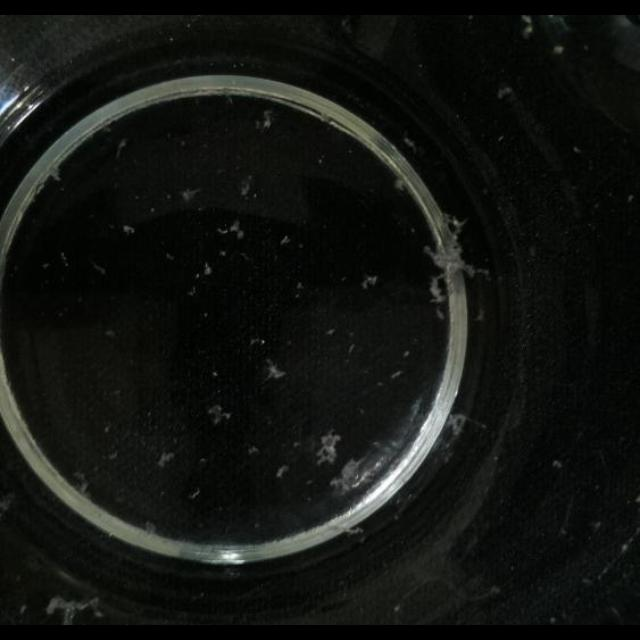Fibre: (422, 225, 476, 298), (44, 594, 104, 624), (330, 456, 368, 494), (316, 432, 342, 466), (217, 217, 246, 239), (262, 358, 286, 382), (206, 404, 232, 426), (69, 472, 89, 493), (256, 110, 274, 132), (239, 174, 255, 196), (157, 450, 175, 468), (181, 187, 201, 203), (360, 274, 378, 290)
microbeads: (202, 262, 212, 276), (122, 224, 134, 234)
